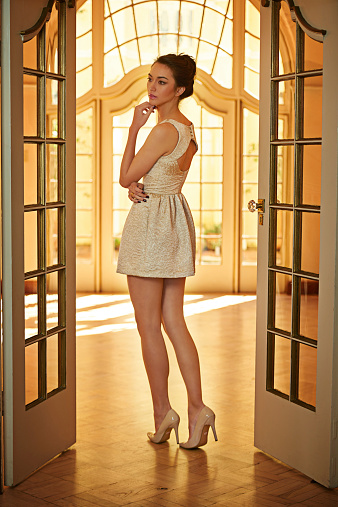em pe: (94, 43, 214, 472)
